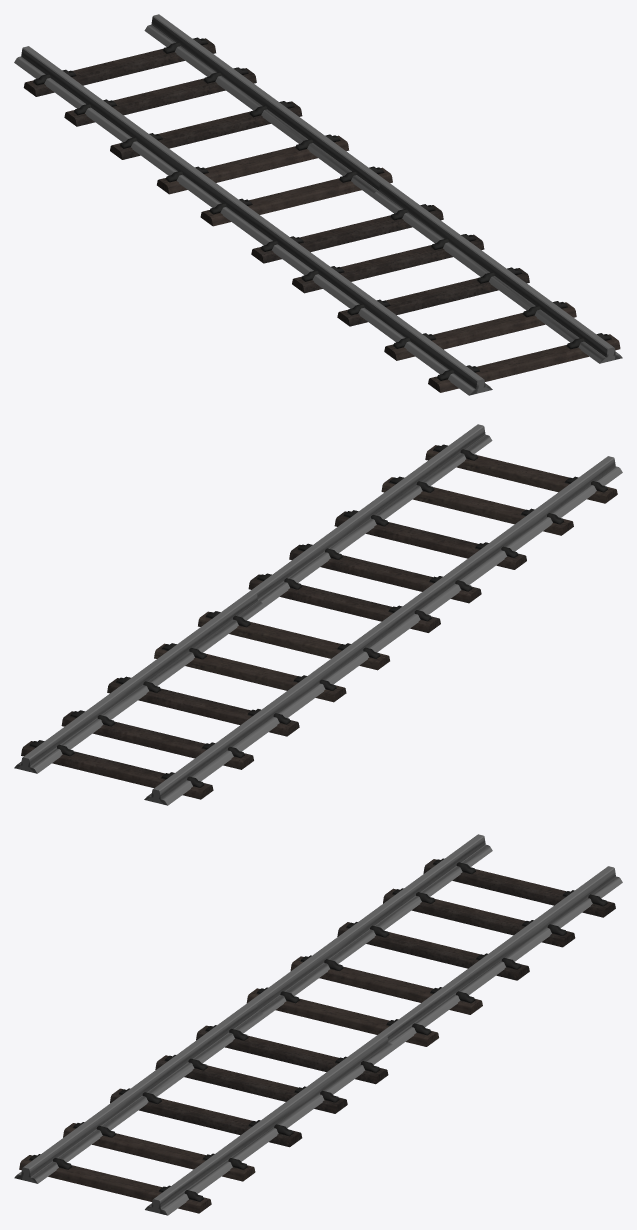
Rendered from TrainTrack_straight.fbx.
The picture shows the model from 3 angles, top to bottom: view 1: azimuth 30°, elevation 25°; view 2: azimuth 150°, elevation 25°; view 3: azimuth 330°, elevation 25°; orthographic projection.
Parts seen in each view (by area): view 1: TrainTrack_straight; view 2: TrainTrack_straight; view 3: TrainTrack_straight.
Boxes of the visible parts, box(x1,y1,x2,y2) form: TrainTrack_straight: box(14, 14, 622, 395); TrainTrack_straight: box(14, 424, 622, 805); TrainTrack_straight: box(14, 834, 622, 1215).
Size of the model in its own units: 7.31 by 0.7684 by 32.
